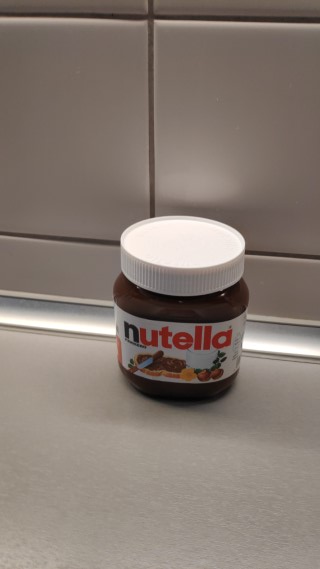nutella: (111, 213, 251, 408)
